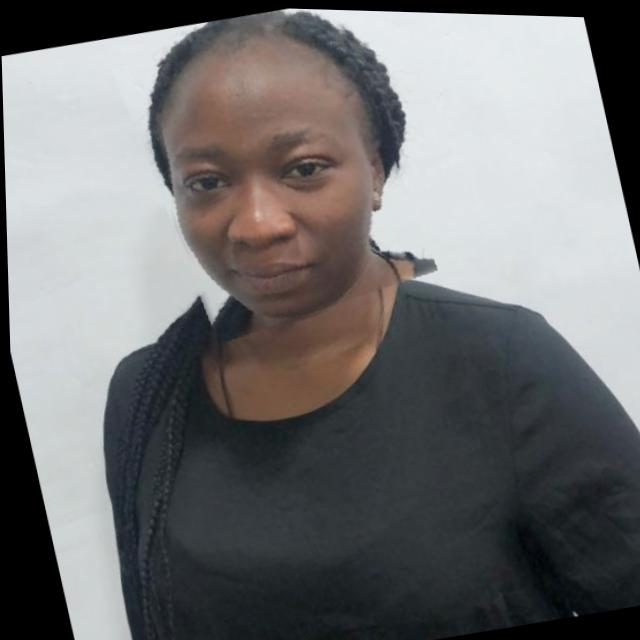sad: (113, 3, 432, 345)
